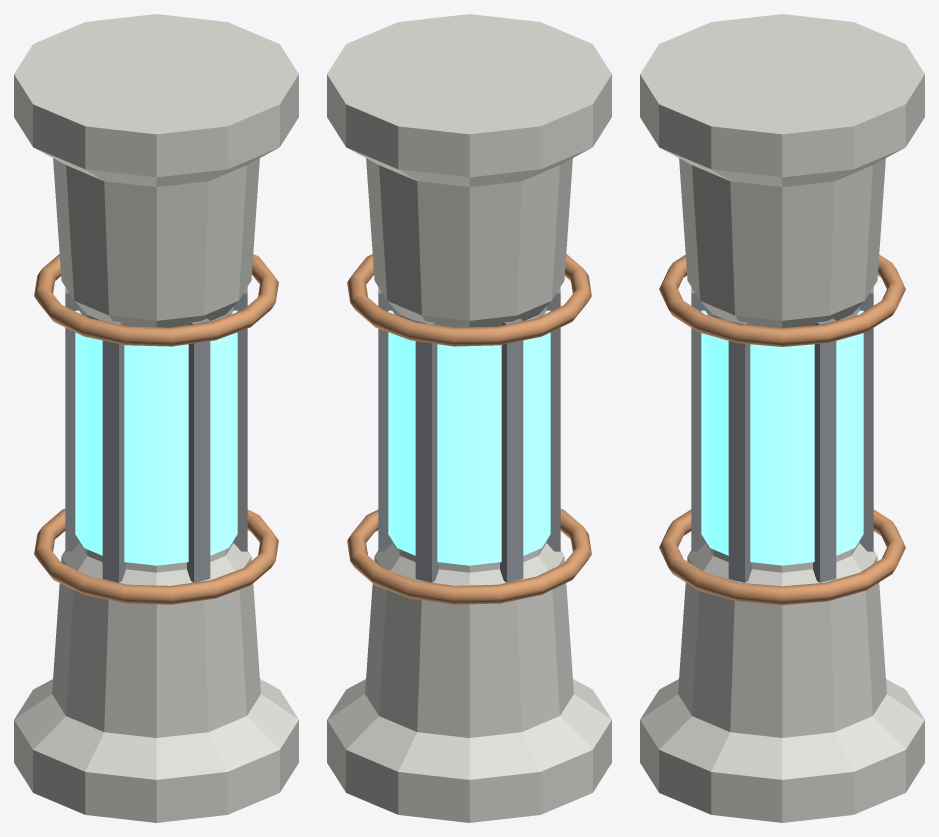
File: pillar.glb
The picture shows the model from 3 angles, left to right: view 1: azimuth 30°, elevation 25°; view 2: azimuth 150°, elevation 25°; view 3: azimuth 270°, elevation 25°; orthographic projection.
Parts seen in each view (by area): view 1: pillar; view 2: pillar; view 3: pillar.
Boxes of the visible parts, left/top/right/bottom form: pillar: left=14, top=14, right=298, bottom=822; pillar: left=327, top=14, right=611, bottom=822; pillar: left=640, top=14, right=924, bottom=822.
Size of the model in its own units: 1.5 by 4 by 1.5.
